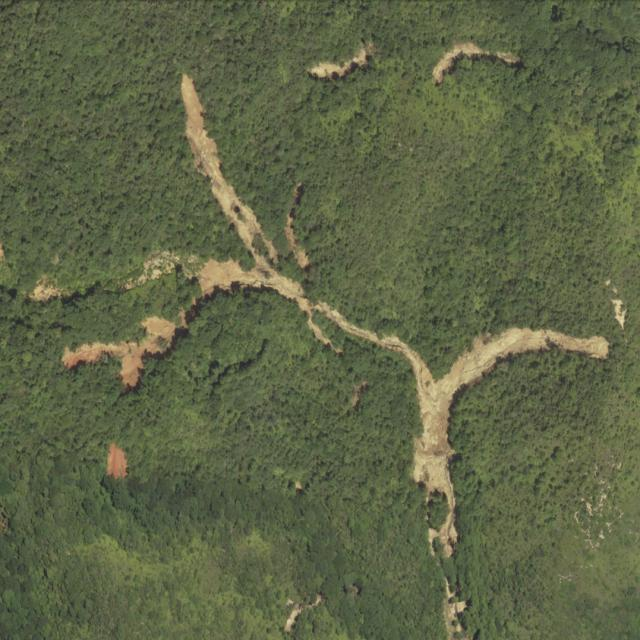landslide: (127, 73, 610, 558), (61, 301, 196, 388), (433, 42, 521, 82)
